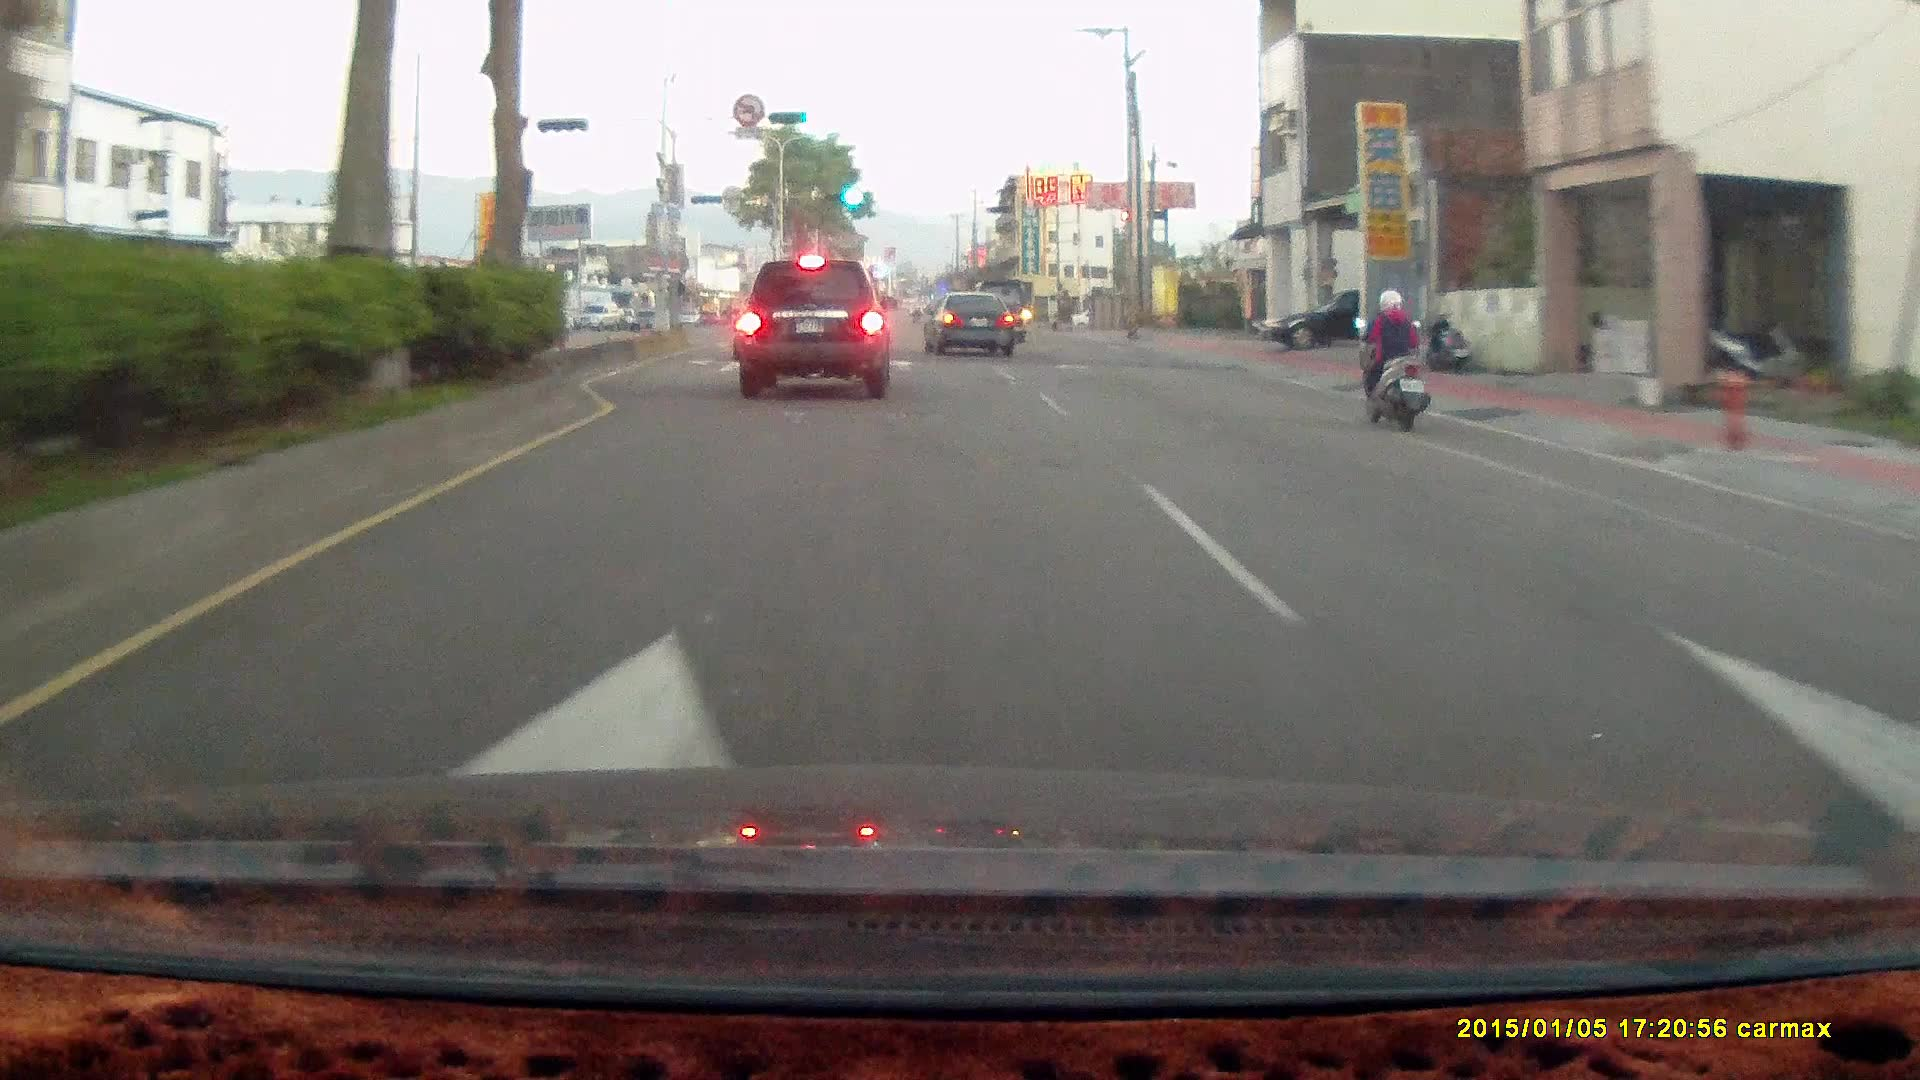rider: (1343, 279, 1441, 440), (1352, 285, 1431, 430)
vehicle: (729, 261, 889, 409), (737, 260, 896, 398), (1261, 289, 1437, 349), (1262, 290, 1368, 350), (924, 292, 1017, 357), (923, 290, 1014, 355), (576, 301, 621, 331)
